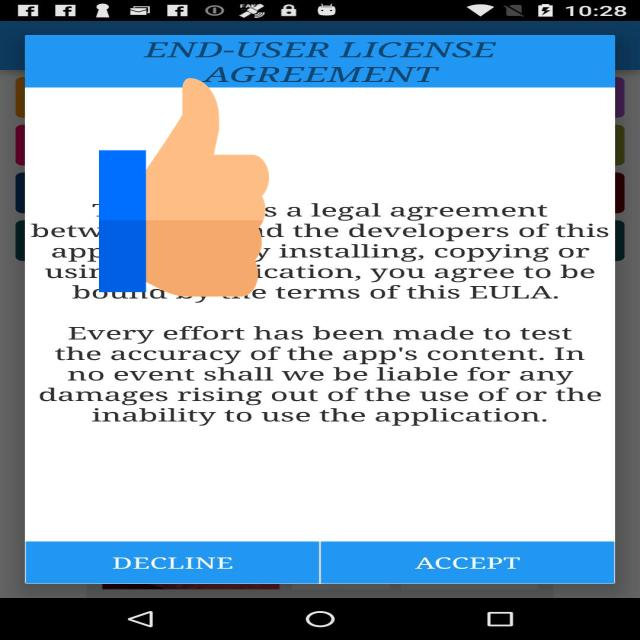privacy zuckering: (99, 73, 269, 302)
